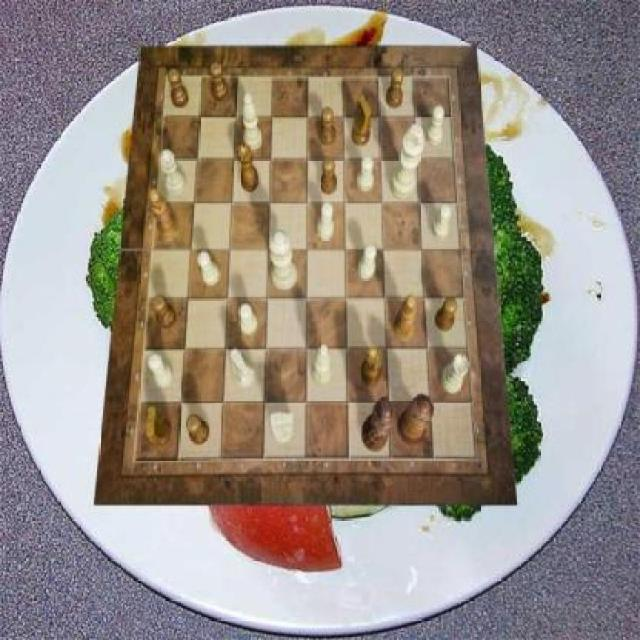bishop: (151, 189, 180, 242), (394, 294, 417, 340)
black-bishop: (362, 397, 394, 453)
black-king: (352, 95, 372, 148), (146, 408, 172, 448)
black-knight: (152, 295, 176, 330), (169, 69, 189, 109), (436, 297, 458, 331), (186, 414, 210, 444), (210, 63, 228, 103), (386, 68, 404, 108), (320, 108, 337, 148), (320, 157, 337, 195)
black-pawn: (397, 394, 434, 446)
black-queen: (238, 143, 260, 192), (360, 348, 382, 388)
black-rook: (243, 94, 262, 152), (312, 343, 332, 385)
white-bishop: (390, 124, 424, 200)
white-king: (231, 349, 257, 389), (270, 412, 294, 445)
white-knight: (149, 352, 174, 387), (198, 251, 221, 285), (432, 204, 452, 240), (426, 106, 444, 146), (317, 203, 334, 242), (238, 305, 258, 337), (359, 244, 376, 280), (355, 157, 373, 191)
white-pawn: (271, 229, 298, 291)
white-queen: (158, 150, 186, 196), (442, 354, 469, 394)
